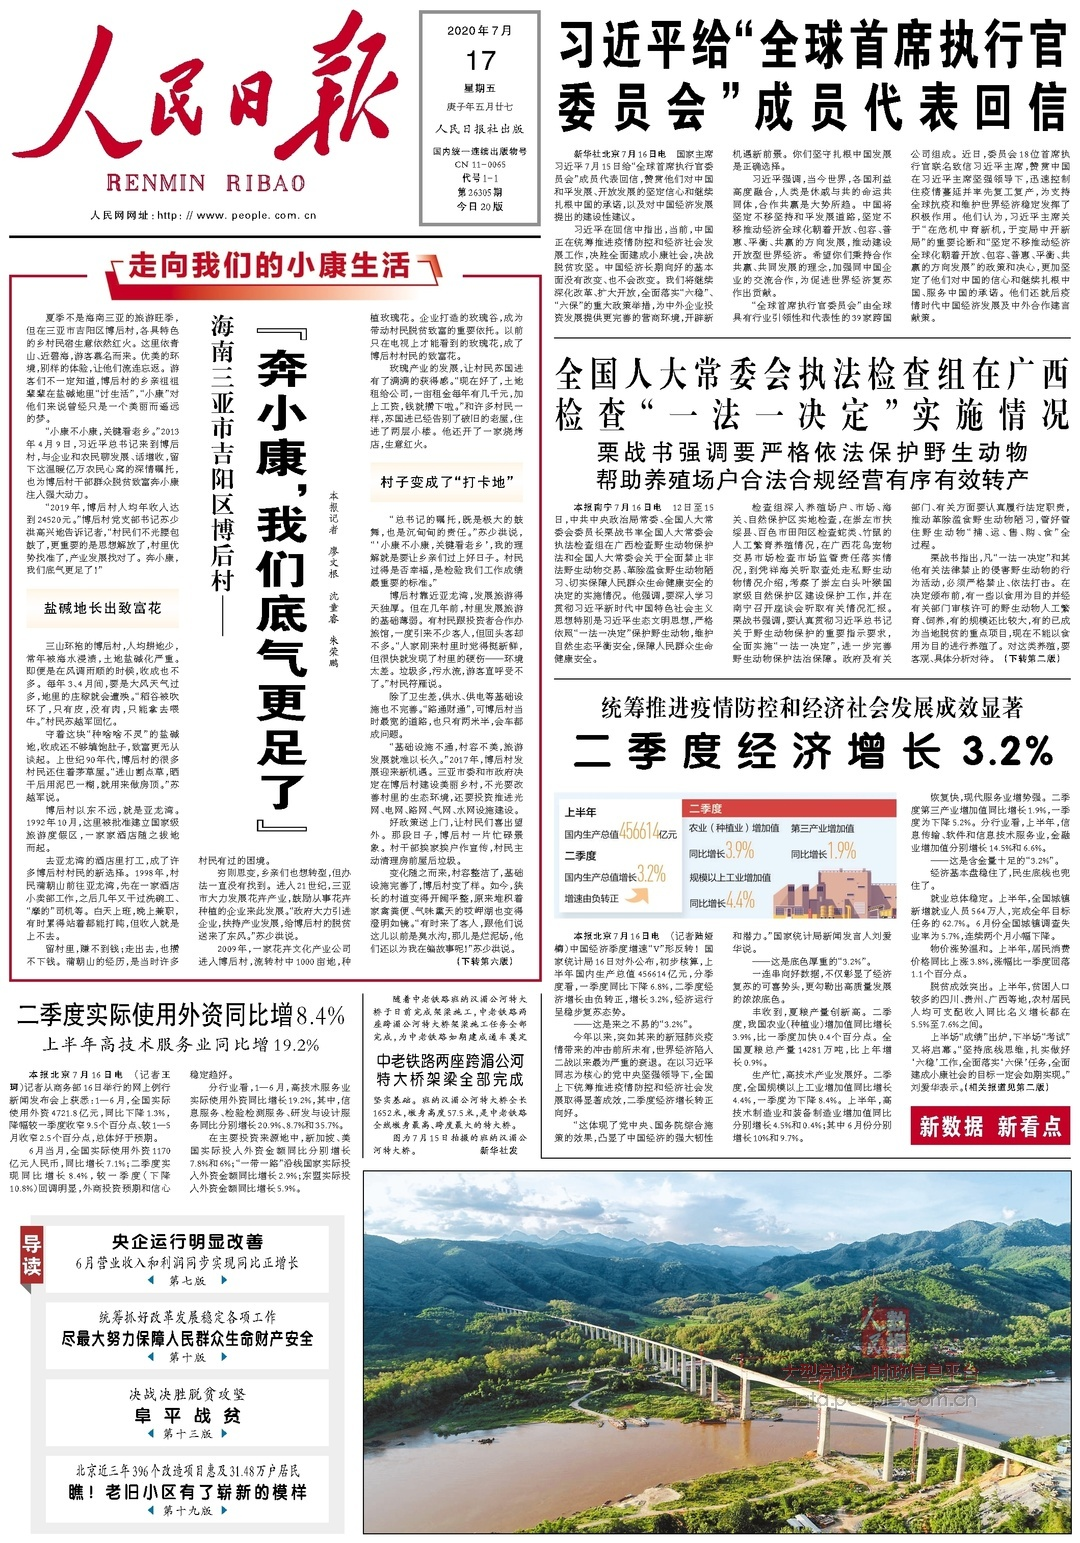pic: (358, 1164, 1076, 1539)
